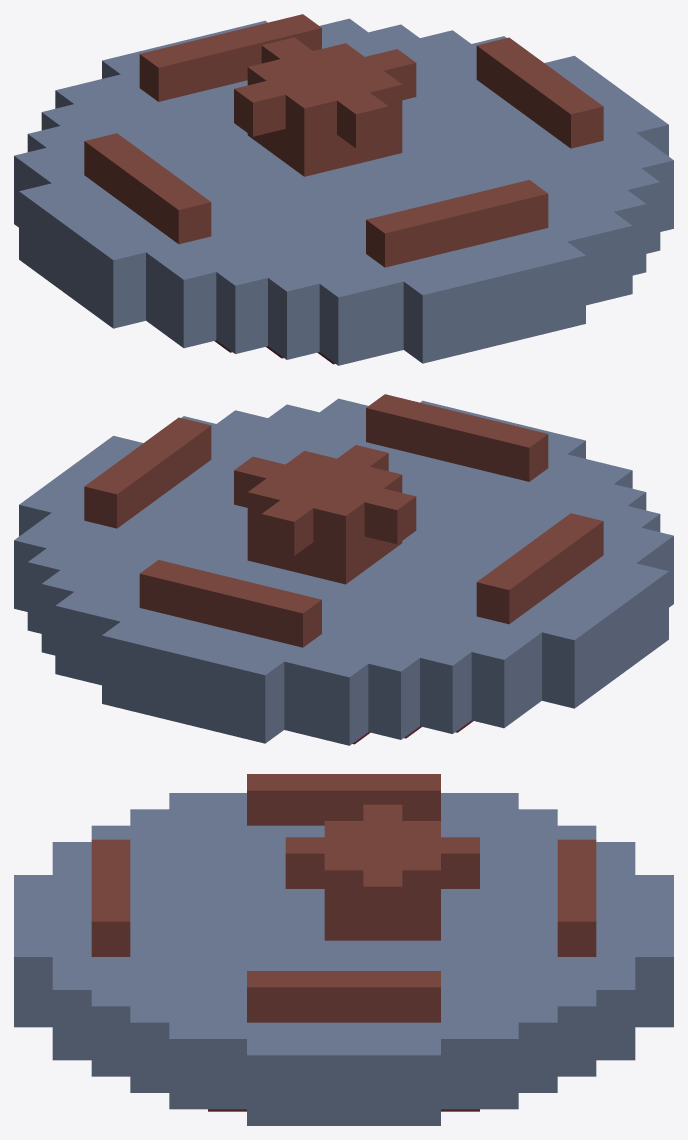
Rendered from Sun_V_coupler.glb.
3 views of the same model, one above another, from view 1: azimuth 30°, elevation 25°; view 2: azimuth 150°, elevation 25°; view 3: azimuth 270°, elevation 25° (orthographic). The views are drawn at different scales.
Parts seen in each view (by area): view 1: ObjObject.031; view 2: ObjObject.031; view 3: ObjObject.031.
Part boxes in pixels (left/top/right/bottom): ObjObject.031: left=14, top=14, right=673, bottom=365; ObjObject.031: left=14, top=394, right=673, bottom=745; ObjObject.031: left=14, top=774, right=673, bottom=1125.
Bounding box in the file's own units: 1.7 × 0.5 × 1.7.
Materials: 1 (1 with a texture image).
